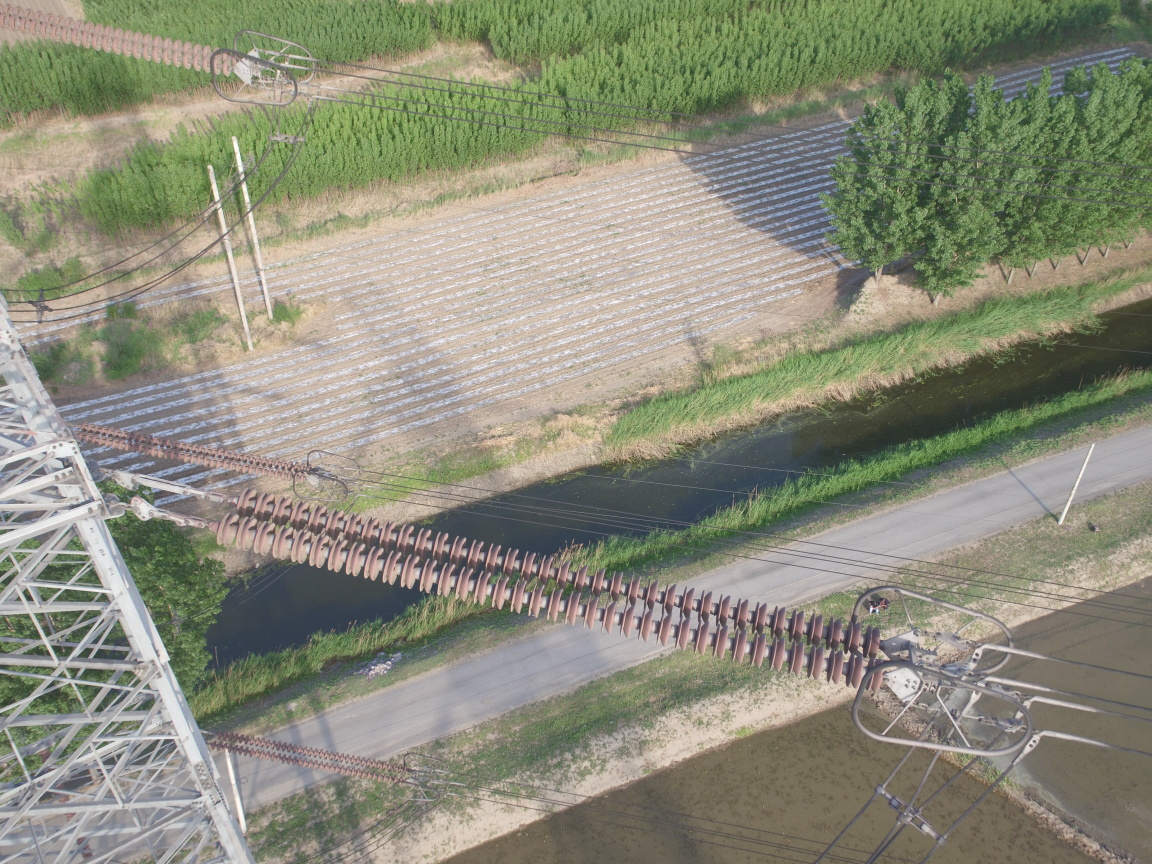insulator: (185, 488, 897, 695), (1, 1, 244, 80), (75, 419, 308, 485), (198, 725, 416, 784)
